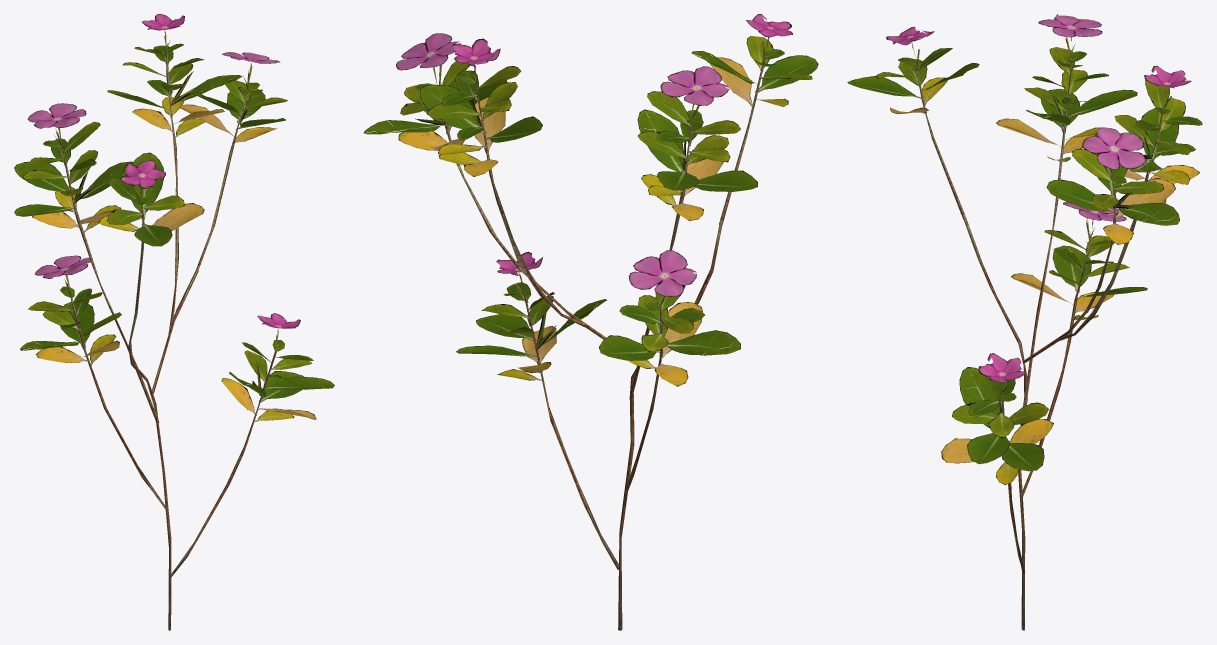
The model's file is periwinkle_plant_02.glb.
3 views of the same model, side by side, from view 1: azimuth 30°, elevation 25°; view 2: azimuth 150°, elevation 25°; view 3: azimuth 270°, elevation 25° (orthographic). The views are drawn at different scales.
Visible parts, largest first — view 1: periwinkle_plant_02_LOD0; view 2: periwinkle_plant_02_LOD0; view 3: periwinkle_plant_02_LOD0.
Boxes of the visible parts, box(x1,y1,x2,y2) form: periwinkle_plant_02_LOD0: box(14, 14, 334, 630); periwinkle_plant_02_LOD0: box(364, 14, 818, 630); periwinkle_plant_02_LOD0: box(847, 14, 1202, 630).
Bounding box in the file's own units: 0.2311 × 0.4107 × 0.2248.
1 material, 1 textured.
